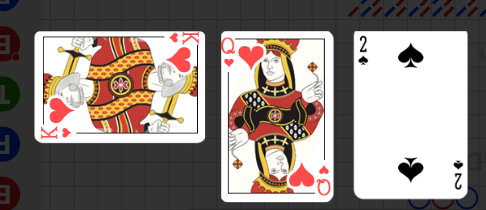2S: (357, 35, 370, 68)
KH: (39, 125, 73, 141), (167, 31, 201, 45)
